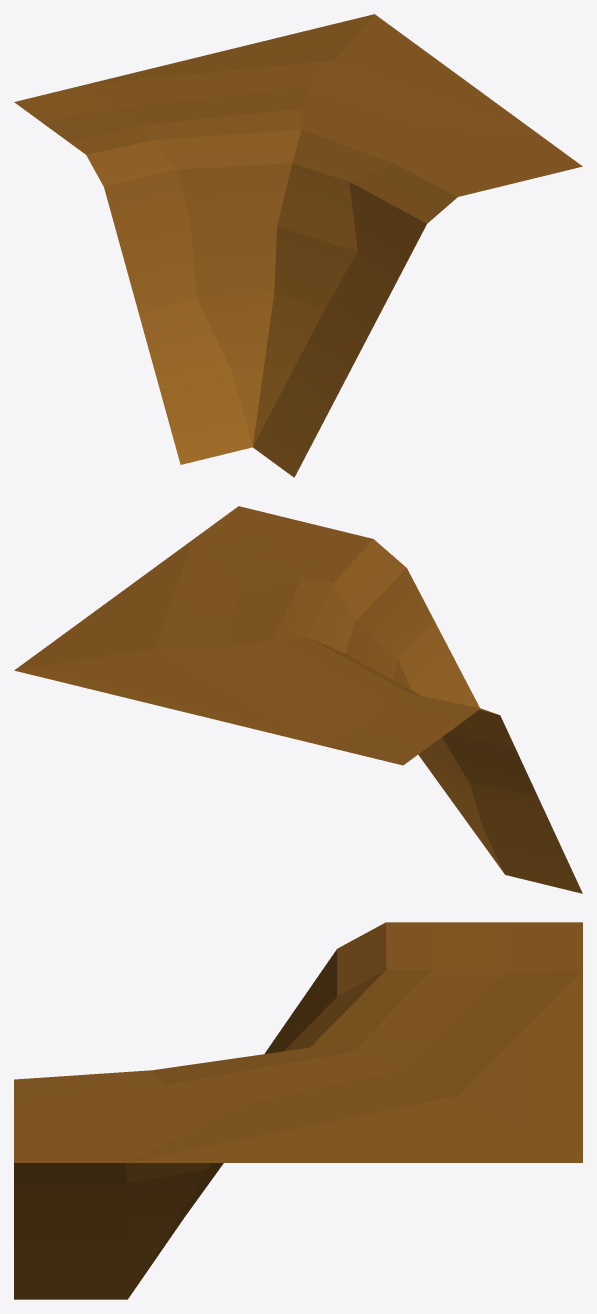
File: cGround_A_Side_4.obj
The picture shows the model from 3 angles, top to bottom: view 1: azimuth 30°, elevation 25°; view 2: azimuth 150°, elevation 25°; view 3: azimuth 270°, elevation 25°; orthographic projection. The views are drawn at different scales.
Visible parts, largest first — view 1: cGround_A_Side_4; view 2: cGround_A_Side_4; view 3: cGround_A_Side_4.
Boxes of the visible parts, bbox=[...] form: cGround_A_Side_4: bbox=[14, 14, 582, 477]; cGround_A_Side_4: bbox=[14, 506, 582, 893]; cGround_A_Side_4: bbox=[14, 922, 582, 1299].
Bounding box in the file's own units: 5 × 3.29 × 5.
